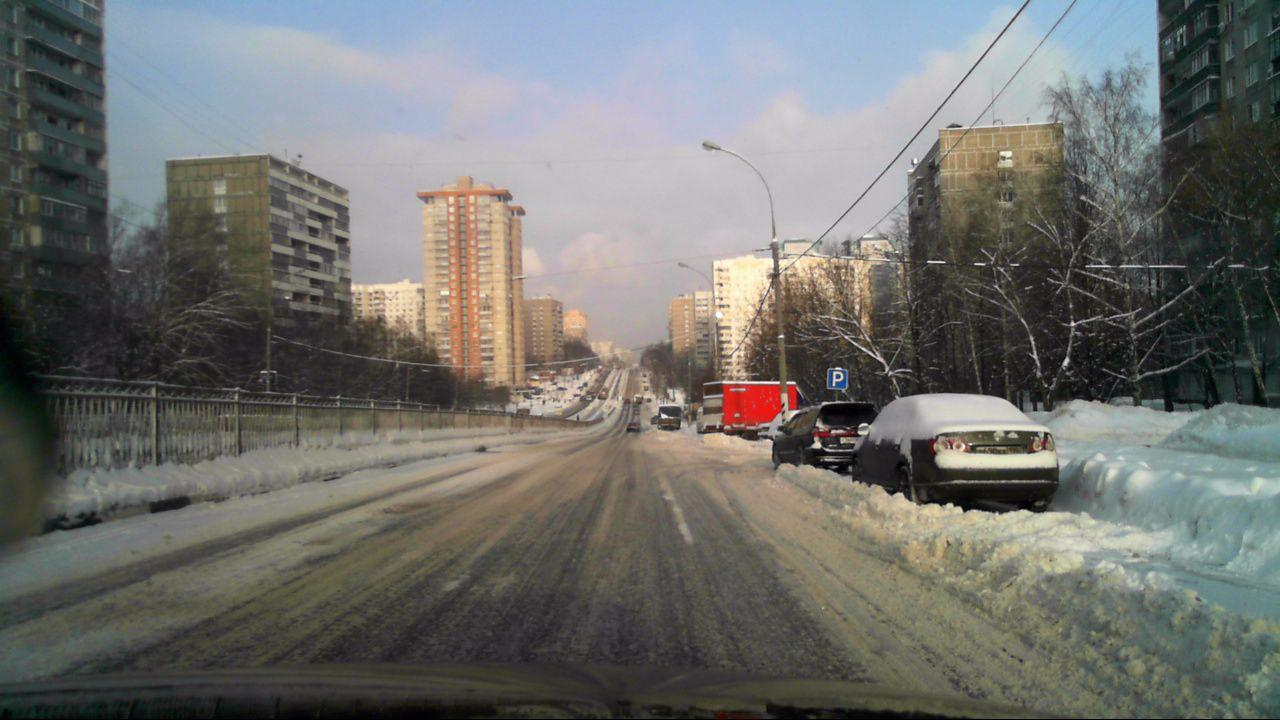6_4: (826, 367, 848, 391)
